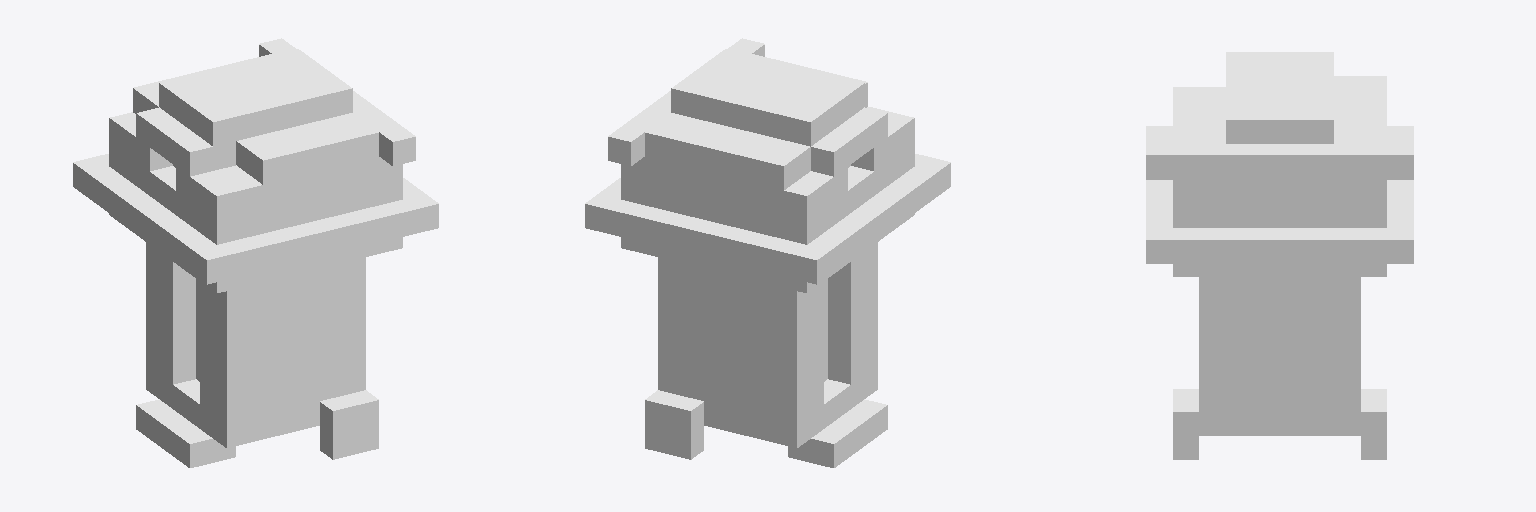
File: paeleraGris.obj
3 views of the same model, side by side, from view 1: azimuth 30°, elevation 25°; view 2: azimuth 150°, elevation 25°; view 3: azimuth 270°, elevation 25° (orthographic).
Parts seen in each view (by area): view 1: object 1; view 2: object 1; view 3: object 1.
Boxes of the visible parts, box(x1,y1,x2,y2) form: object 1: box(73, 38, 438, 467); object 1: box(585, 38, 950, 467); object 1: box(1146, 52, 1413, 459).
Size of the model in its own units: 1 by 1.4 by 1.